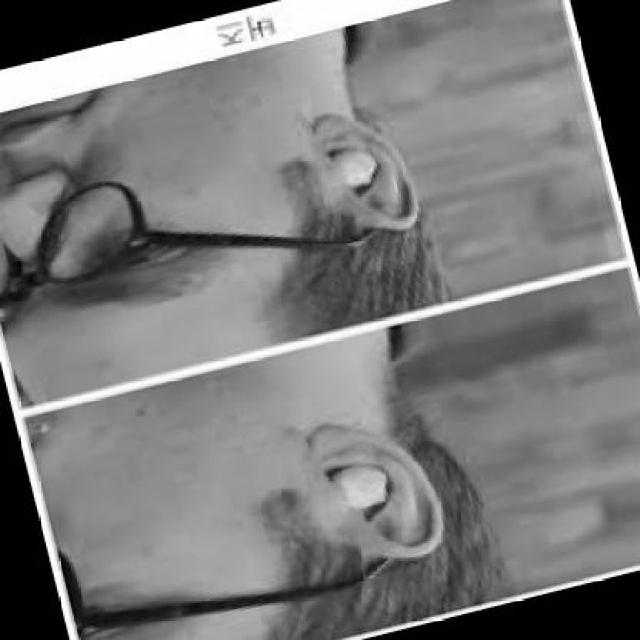earphone: (323, 449, 422, 532), (332, 130, 405, 205)
